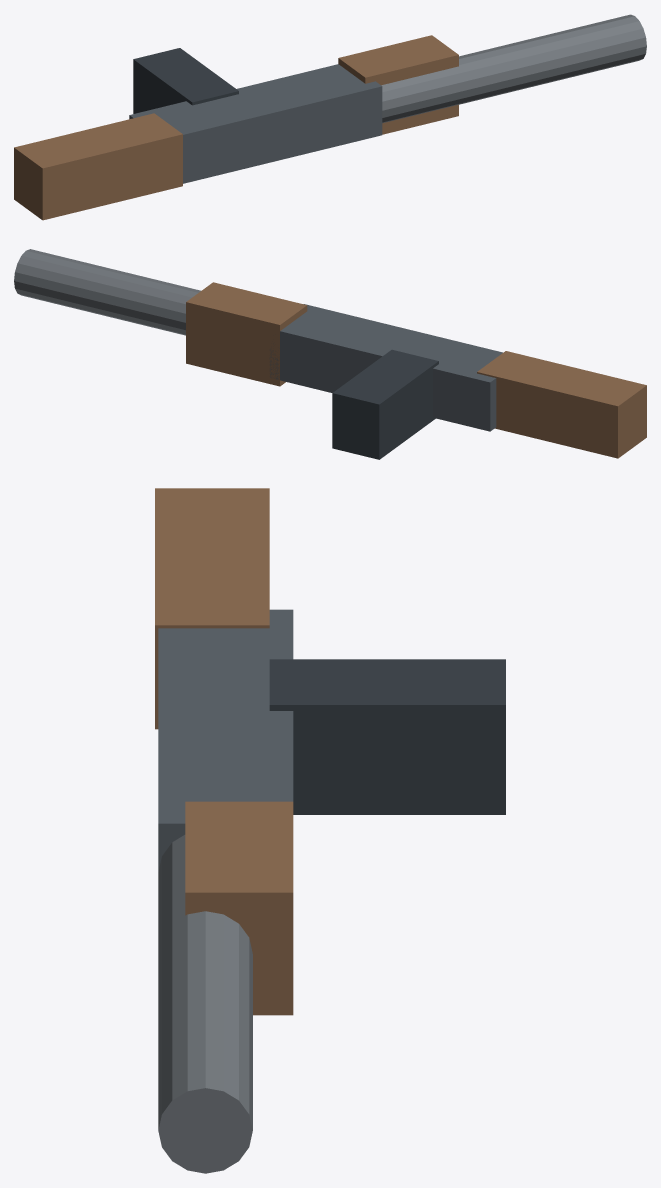
File: shotgun.glb
3 views of the same model, one above another, from view 1: azimuth 30°, elevation 25°; view 2: azimuth 150°, elevation 25°; view 3: azimuth 270°, elevation 25° (orthographic). The views are drawn at different scales.
Parts seen in each view (by area): view 1: g0_body, g3_stock, g1_barrel, g2_pump, g4_grip; view 2: g0_body, g3_stock, g2_pump, g1_barrel, g4_grip; view 3: g4_grip, g1_barrel, g0_body, g2_pump, g3_stock.
Part boxes in pixels (x1,y1,x2,y2): g0_body: (129, 64, 382, 183); g3_stock: (14, 113, 182, 220); g1_barrel: (381, 14, 646, 123); g2_pump: (338, 35, 458, 134); g4_grip: (133, 48, 238, 113); g0_body: (269, 304, 502, 431); g3_stock: (477, 351, 646, 458); g2_pump: (186, 282, 307, 386); g1_barrel: (14, 249, 200, 335); g4_grip: (332, 349, 438, 459); g4_grip: (269, 659, 505, 814); g1_barrel: (158, 835, 252, 1173); g0_body: (158, 609, 293, 871); g2_pump: (185, 801, 293, 1015); g3_stock: (155, 488, 269, 729).
Size of the model in its own units: 2.07 by 0.2 by 0.52.
